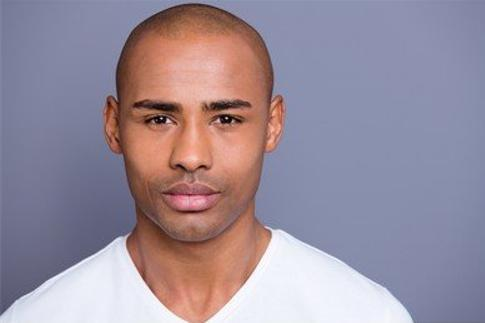Sober: (124, 49, 261, 225)
